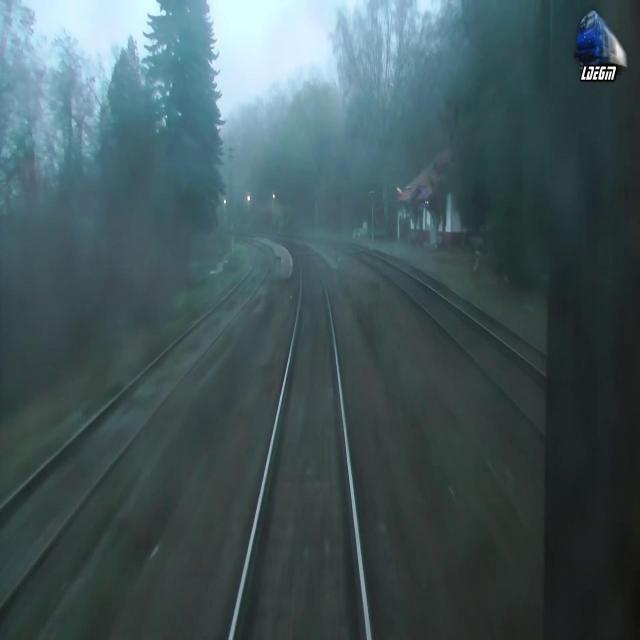rail-track: (0, 239, 269, 603), (233, 241, 366, 639), (347, 247, 547, 433)
